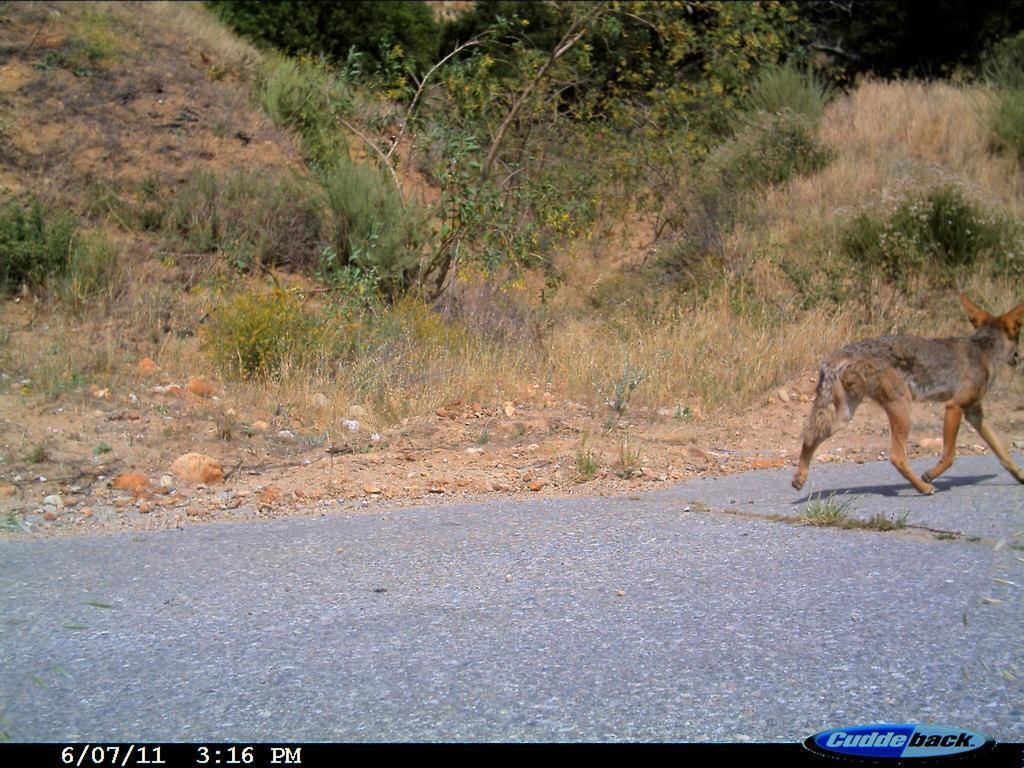coyote: (789, 283, 1021, 506)
